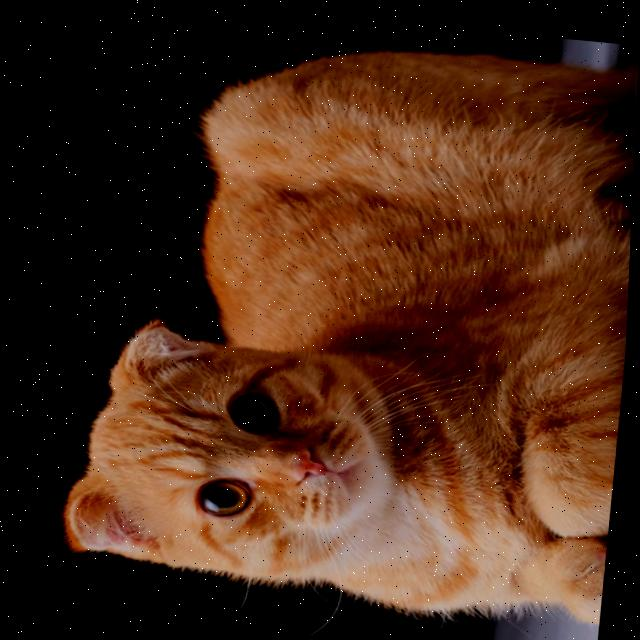Scottish Fold: (54, 10, 640, 627)
